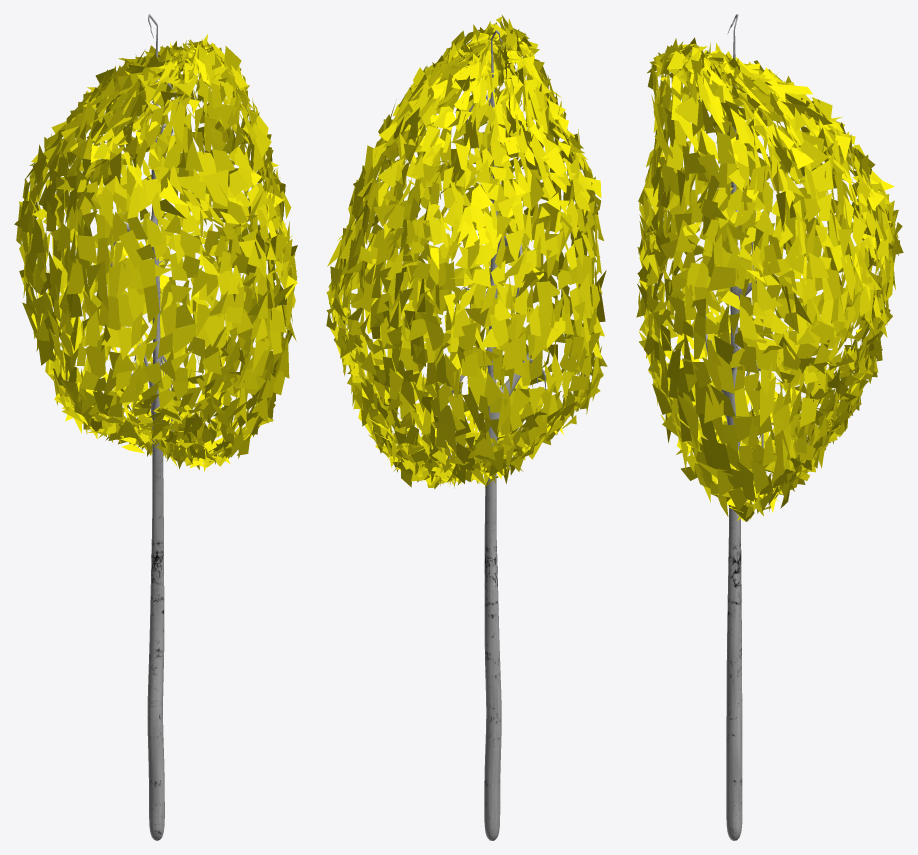
Rendered from Leaves65.001.fbx.
The picture shows the model from 3 angles, left to right: view 1: azimuth 30°, elevation 25°; view 2: azimuth 150°, elevation 25°; view 3: azimuth 270°, elevation 25°; orthographic projection.
Visible parts, largest first — view 1: Leaves65.001; view 2: Leaves65.001; view 3: Leaves65.001.
Part boxes in pixels (x1,y1,x2,y2): Leaves65.001: [14, 14, 297, 840]; Leaves65.001: [326, 14, 607, 840]; Leaves65.001: [636, 14, 903, 840].
Size of the model in its own units: 795 by 2612 by 768.
2 materials, 1 textured.
